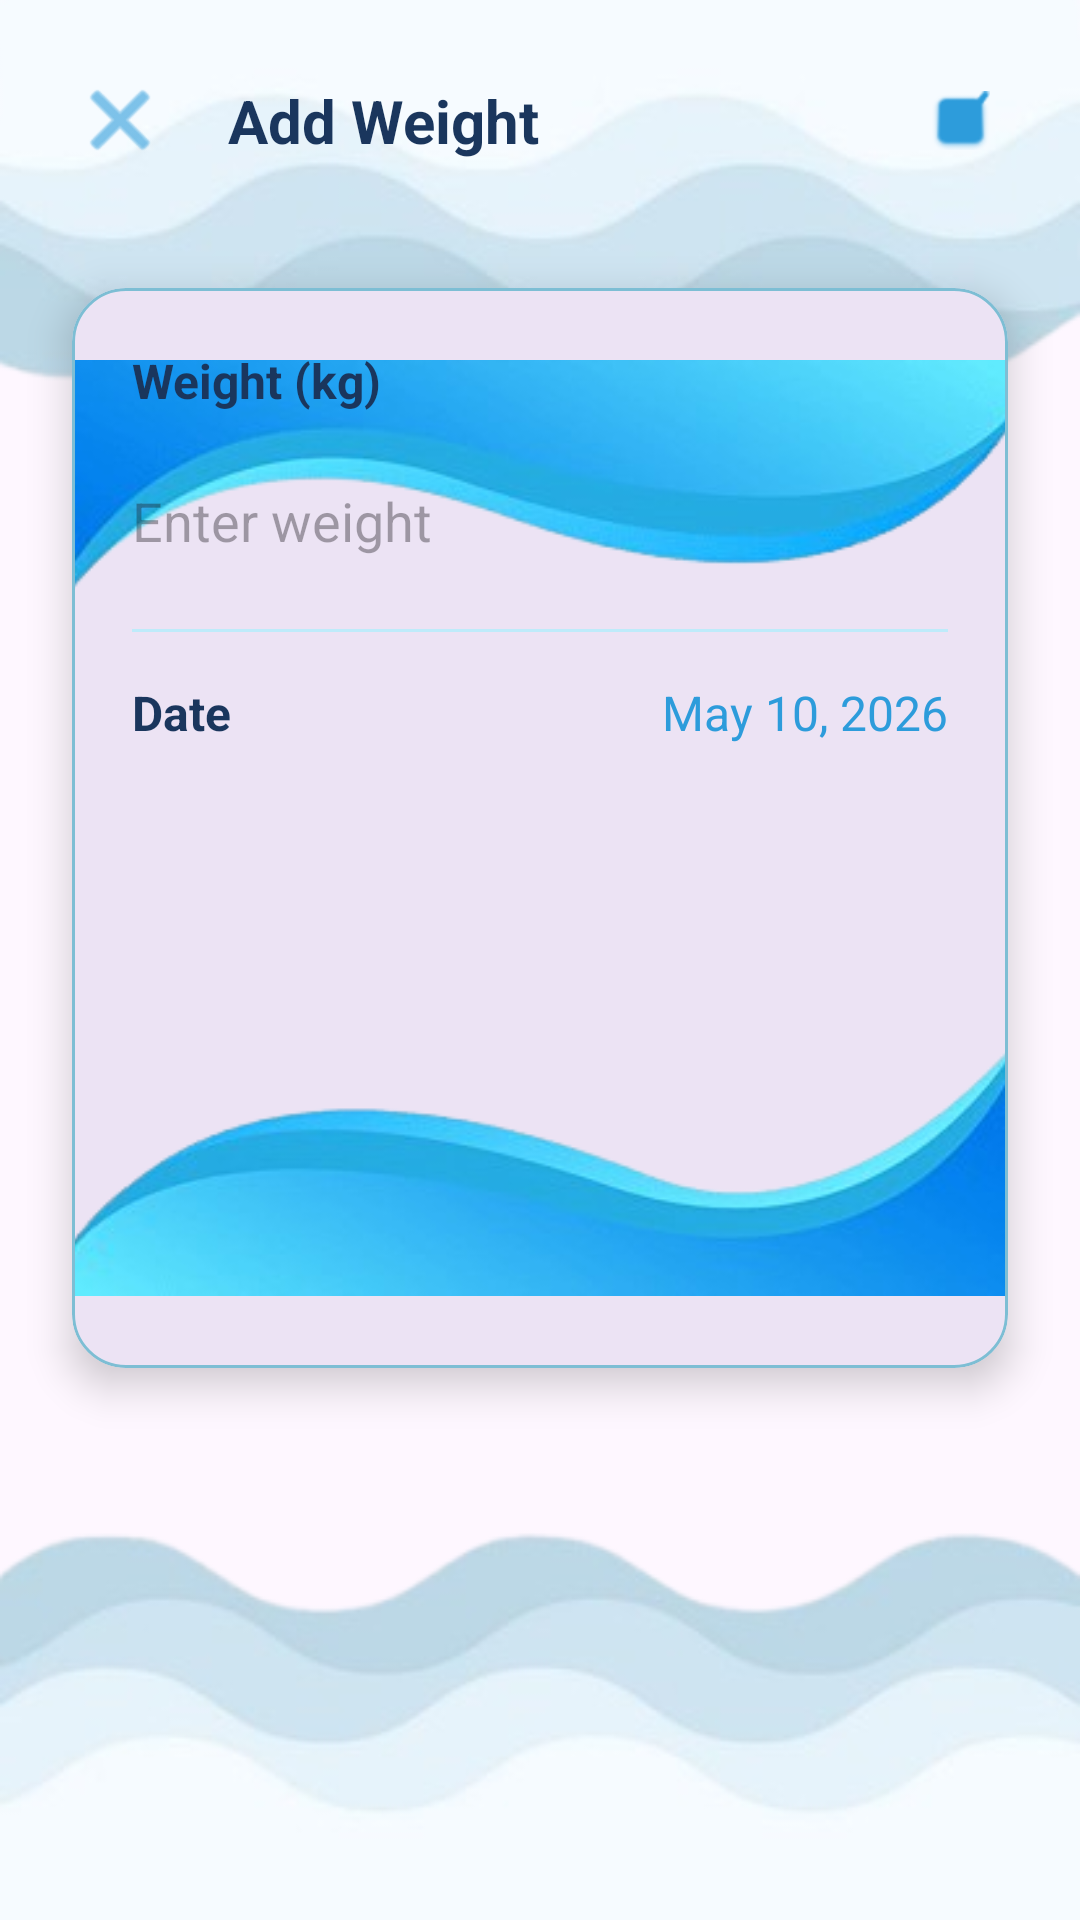

Where icons sit on this 1080w x 1920h app screen, as (x1, y1, x2, y2):
close clear cancel: (90, 90, 150, 151)
